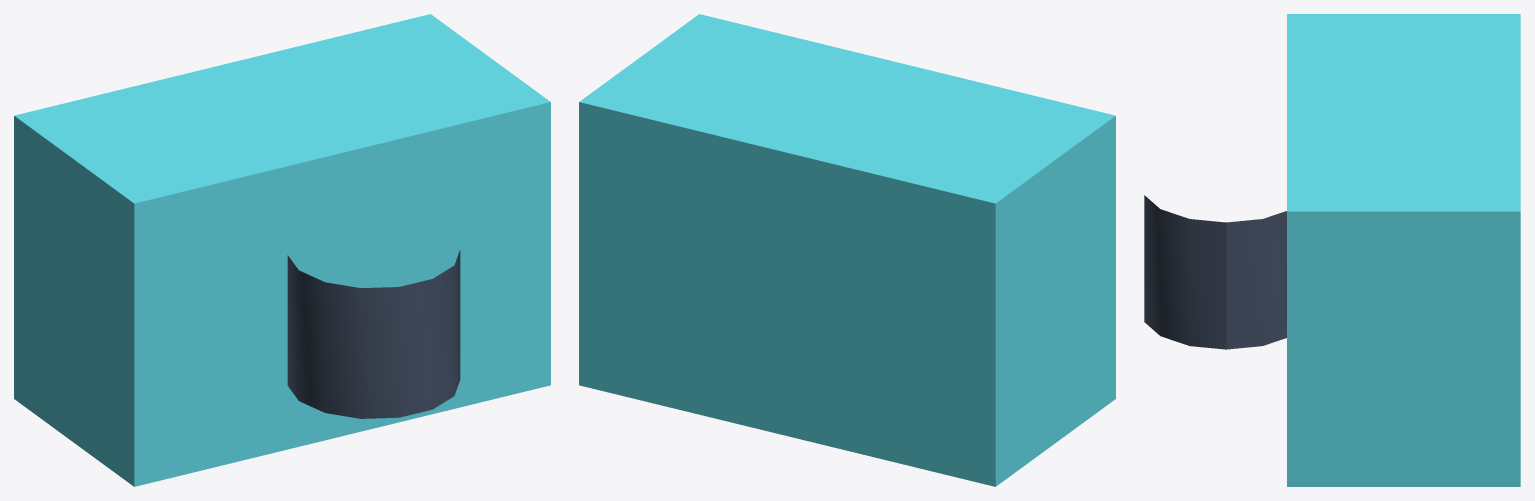
Rendered from camera.glb.
3 renders of one model, left to right at view 1: azimuth 30°, elevation 25°; view 2: azimuth 150°, elevation 25°; view 3: azimuth 270°, elevation 25°, orthographic. The views are drawn at different scales.
Visible parts, largest first — view 1: models/camera.glb_node_0, models/camera.glb_node_1; view 2: models/camera.glb_node_0; view 3: models/camera.glb_node_0, models/camera.glb_node_1.
Part boxes in pixels (x1,y1,x2,y2): models/camera.glb_node_0: (14,14,550,486); models/camera.glb_node_1: (287,249,460,418); models/camera.glb_node_0: (579,14,1115,486); models/camera.glb_node_0: (1287,14,1520,486); models/camera.glb_node_1: (1144,195,1286,349).
Bounding box in the file's own units: 1 × 0.65 × 0.8055.
